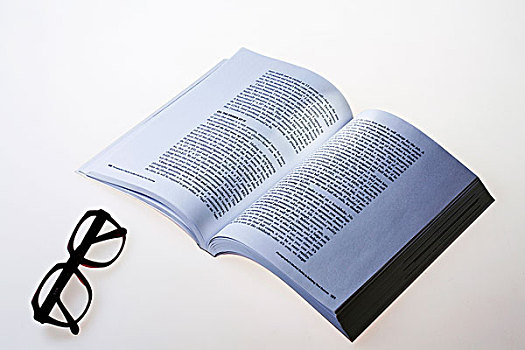book: (65, 44, 505, 341)
